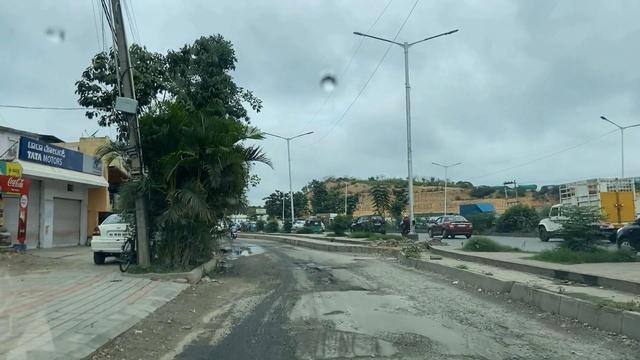RoadDamages: (306, 312, 405, 360), (300, 259, 376, 300), (453, 296, 524, 336)
